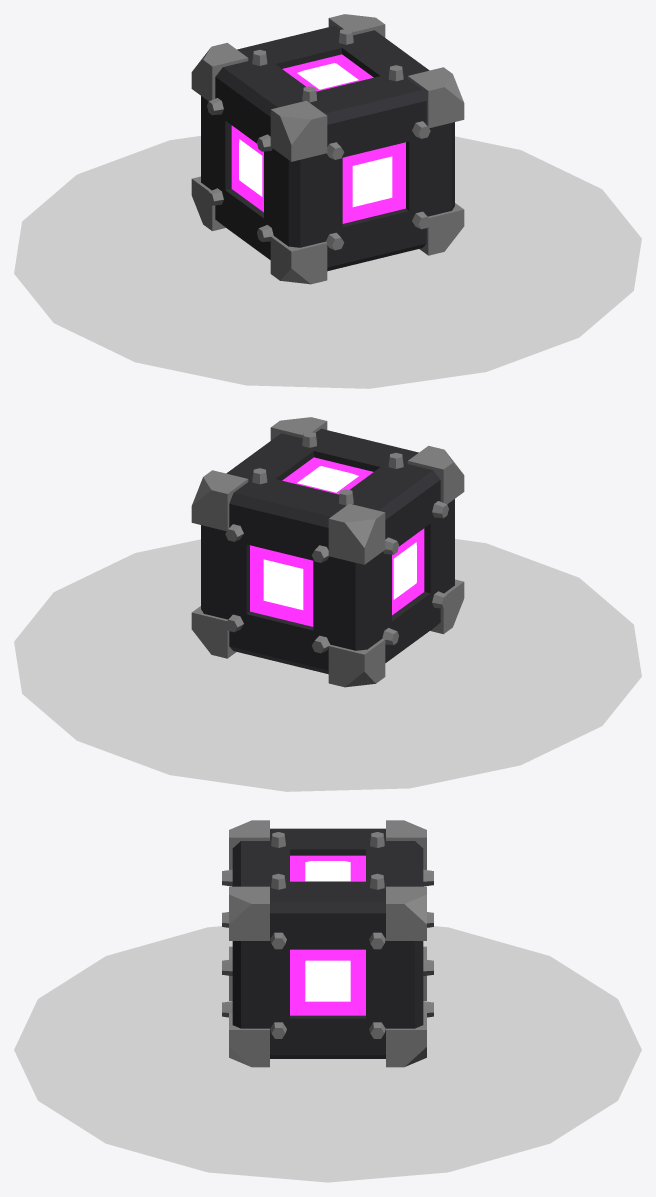
The model's file is SM_XPCubeBig.fbx.
The picture shows the model from 3 angles, top to bottom: view 1: azimuth 30°, elevation 25°; view 2: azimuth 150°, elevation 25°; view 3: azimuth 270°, elevation 25°; orthographic projection.
Visible parts, largest first — view 1: SM_XPCubeBig; view 2: SM_XPCubeBig; view 3: SM_XPCubeBig.
Part boxes in pixels (<box>): SM_XPCubeBig: <box>14,14,641,388</box>; SM_XPCubeBig: <box>14,417,641,791</box>; SM_XPCubeBig: <box>14,820,641,1182</box>.
Bounding box in the file's own units: 88.88 × 30.31 × 88.88.
